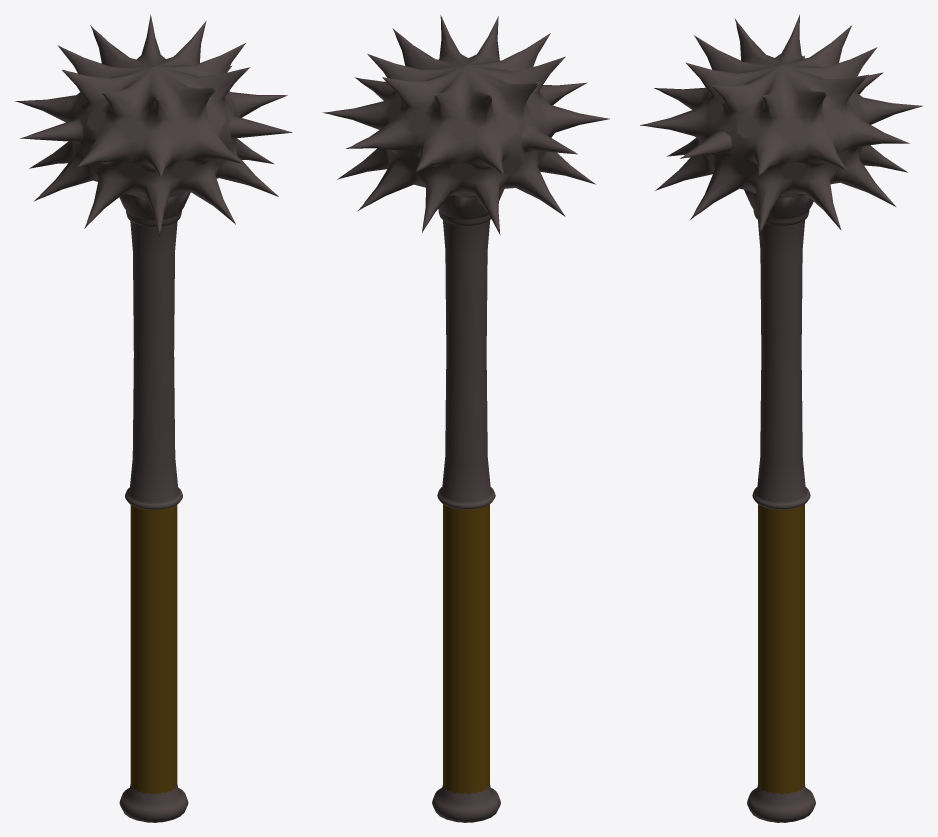
The model's file is Rusty Morningstar.fbx.
The picture shows the model from 3 angles, left to right: view 1: azimuth 30°, elevation 25°; view 2: azimuth 150°, elevation 25°; view 3: azimuth 270°, elevation 25°; orthographic projection.
Visible parts, largest first — view 1: Mace, Mace_Grip; view 2: Mace, Mace_Grip; view 3: Mace, Mace_Grip.
Part boxes in pixels (x1,y1,x2,y2): Mace: (15, 14, 292, 822); Mace_Grip: (130, 505, 177, 794); Mace: (322, 15, 609, 822); Mace_Grip: (443, 504, 489, 794); Mace: (640, 14, 922, 822); Mace_Grip: (758, 504, 804, 794).
Size of the model in its own units: 0.7958 by 2.35 by 0.7948.
